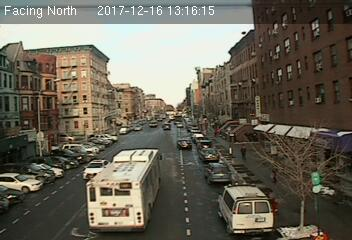bus: (87, 148, 162, 229)
car: (202, 161, 230, 182), (84, 158, 108, 180), (199, 147, 219, 163), (177, 138, 194, 150)
police: (217, 181, 275, 236)
